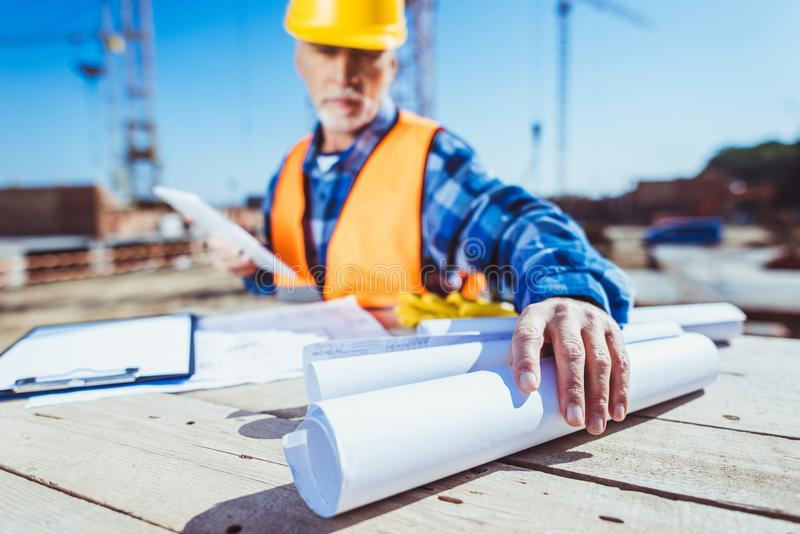helmet: (287, 1, 409, 52)
